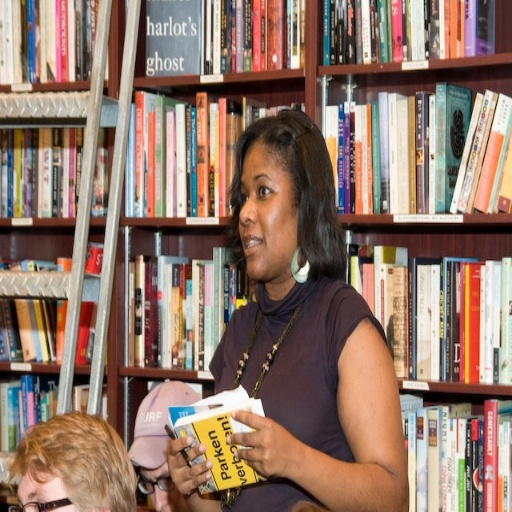hand: (224, 409, 300, 475), (164, 432, 216, 499)
